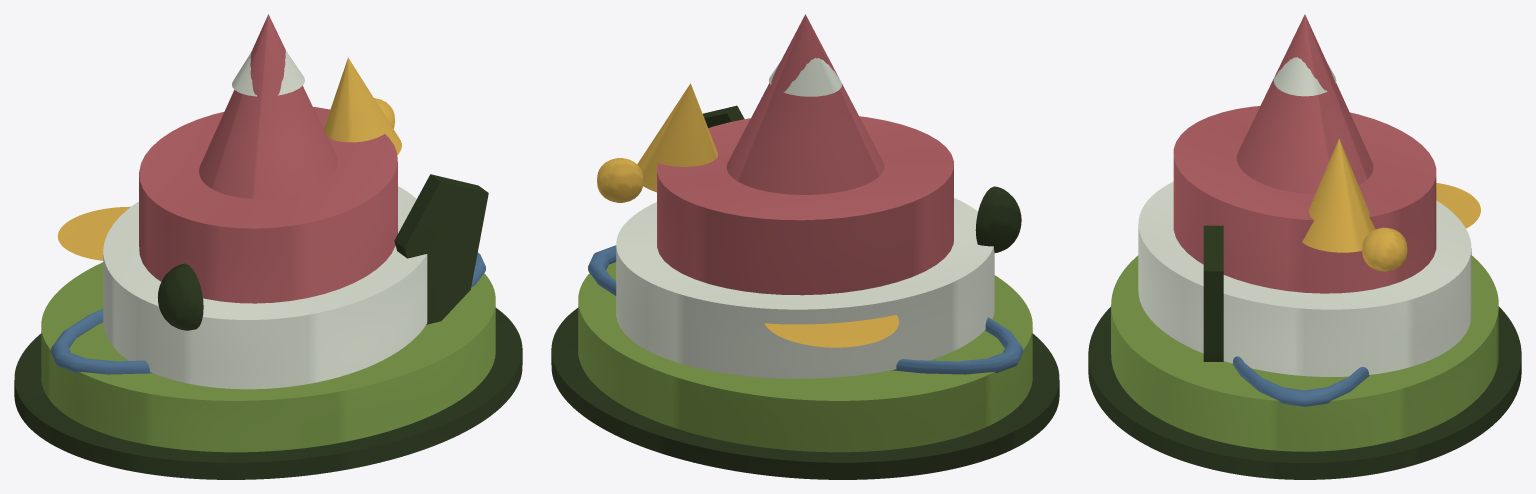
The model's file is 0782_天气与气候图鉴_稀树草原.glb.
3 views of the same model, side by side, from view 1: azimuth 30°, elevation 25°; view 2: azimuth 150°, elevation 25°; view 3: azimuth 270°, elevation 25° (orthographic). The views are drawn at different scales.
Parts seen in each view (by area): view 1: card_0782; view 2: card_0782; view 3: card_0782.
Part boxes in pixels (x1=…): card_0782: x1=14, y1=14, x2=522, y2=479; card_0782: x1=551, y1=14, x2=1059, y2=479; card_0782: x1=1088, y1=14, x2=1521, y2=479.
Size of the model in its own units: 1.3 by 1 by 1.1.
